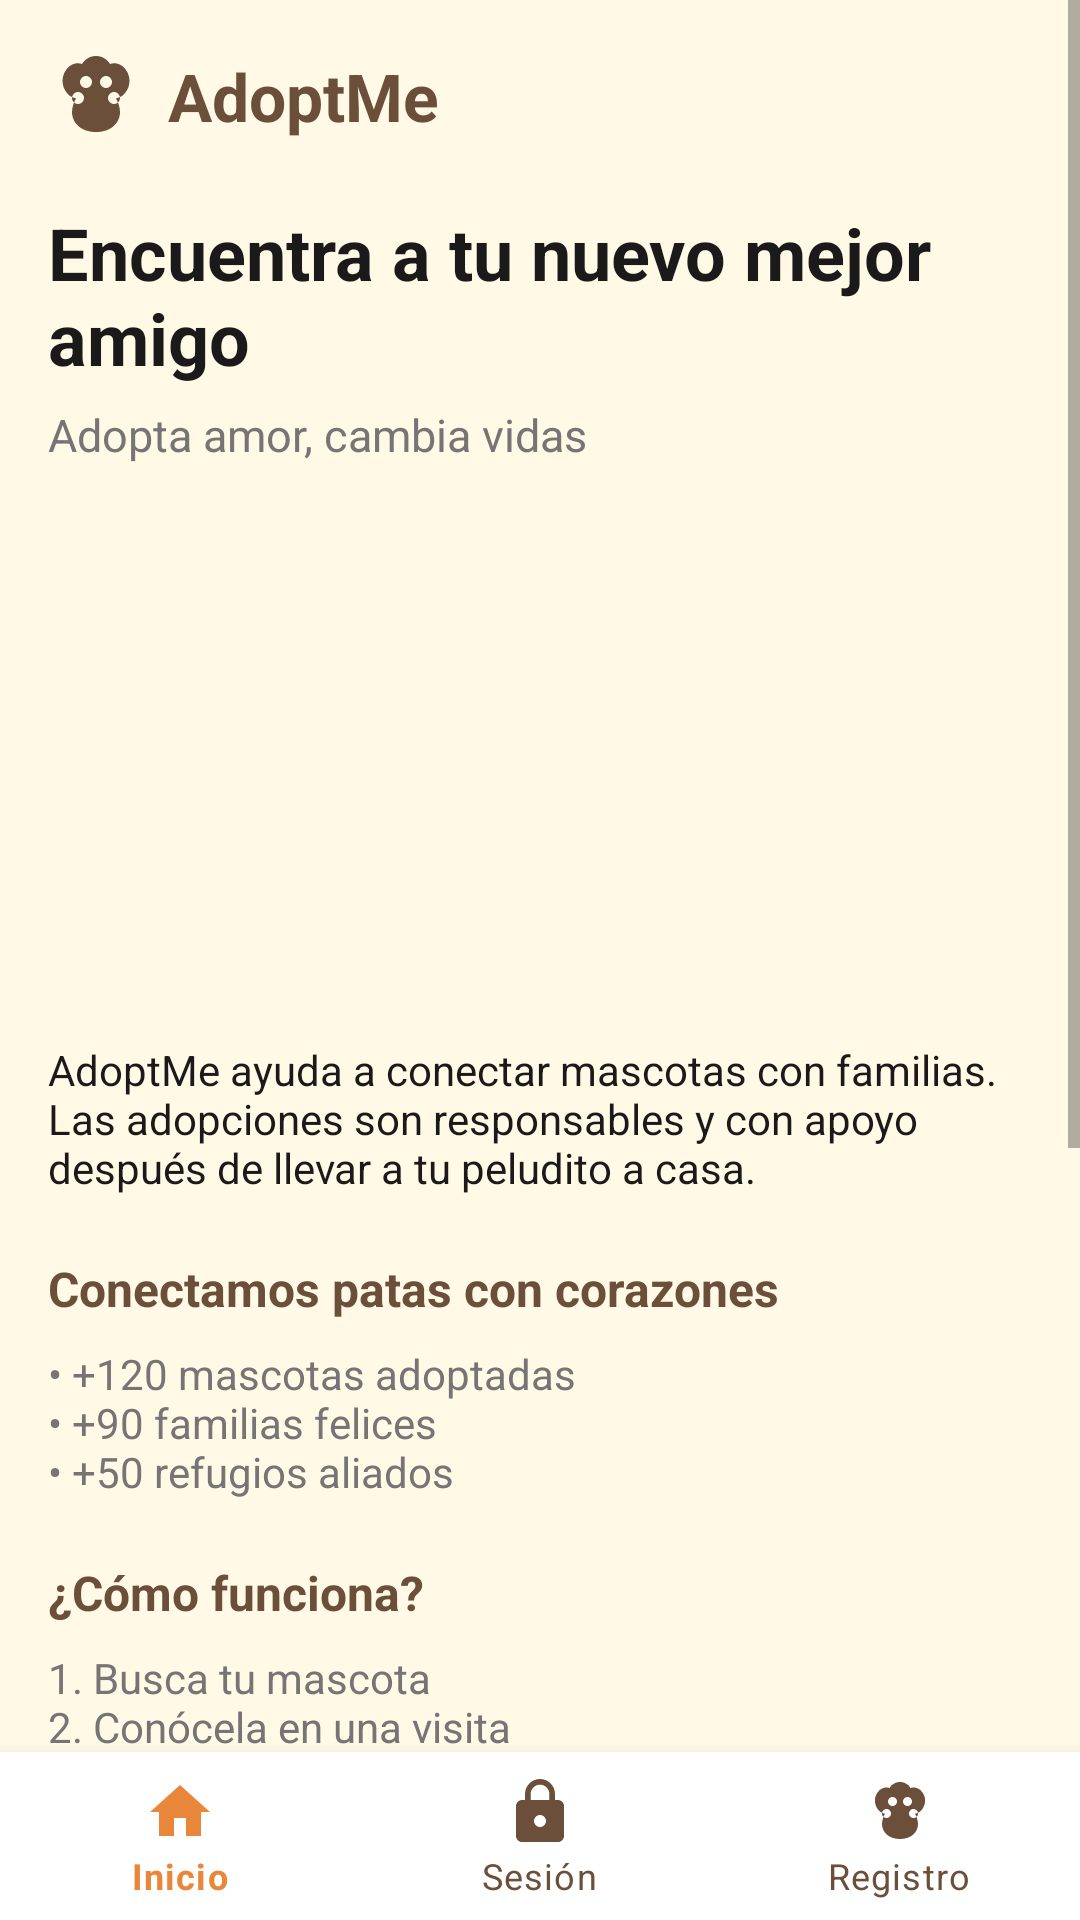

Icon click points for this 1080*1920 phone screenshot, format (x=x, y=y):
paw: (x=96, y=94)
